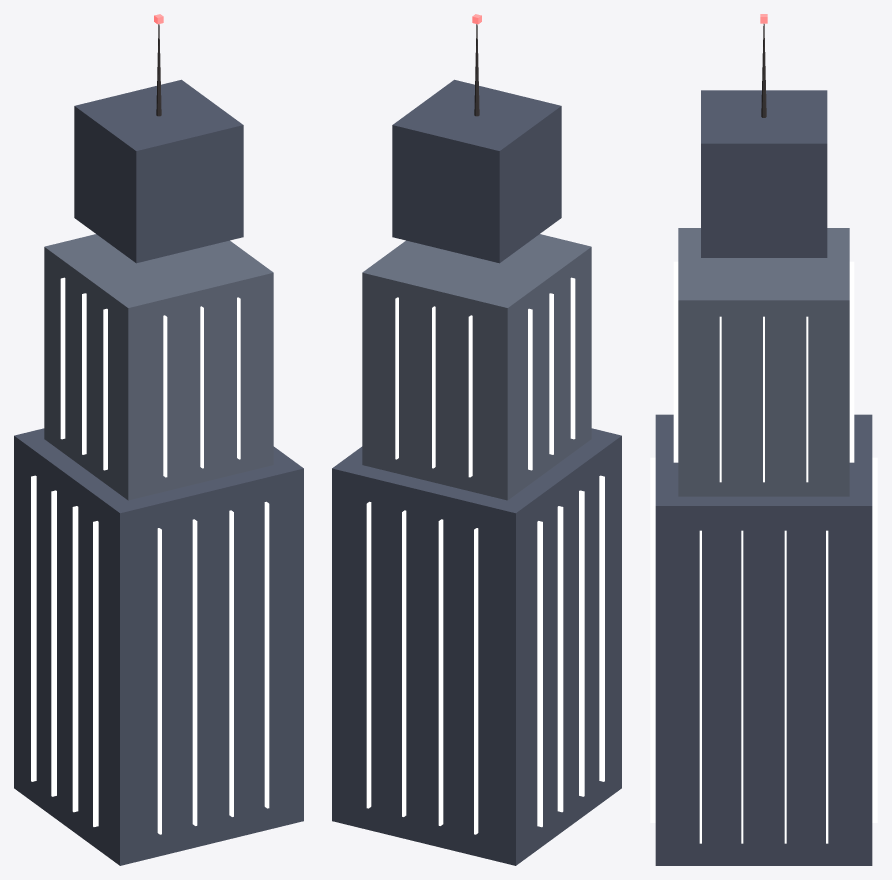
File: tower.glb
The picture shows the model from 3 angles, left to right: view 1: azimuth 30°, elevation 25°; view 2: azimuth 150°, elevation 25°; view 3: azimuth 270°, elevation 25°; orthographic projection. The views are drawn at different scales.
Parts seen in each view (by area): view 1: tower; view 2: tower; view 3: tower.
Boxes of the visible parts, bbox=[...] form: tower: bbox=[14, 14, 303, 865]; tower: bbox=[332, 14, 621, 865]; tower: bbox=[650, 14, 877, 865].
Size of the model in its own units: 12.6 by 49.2 by 12.6.
